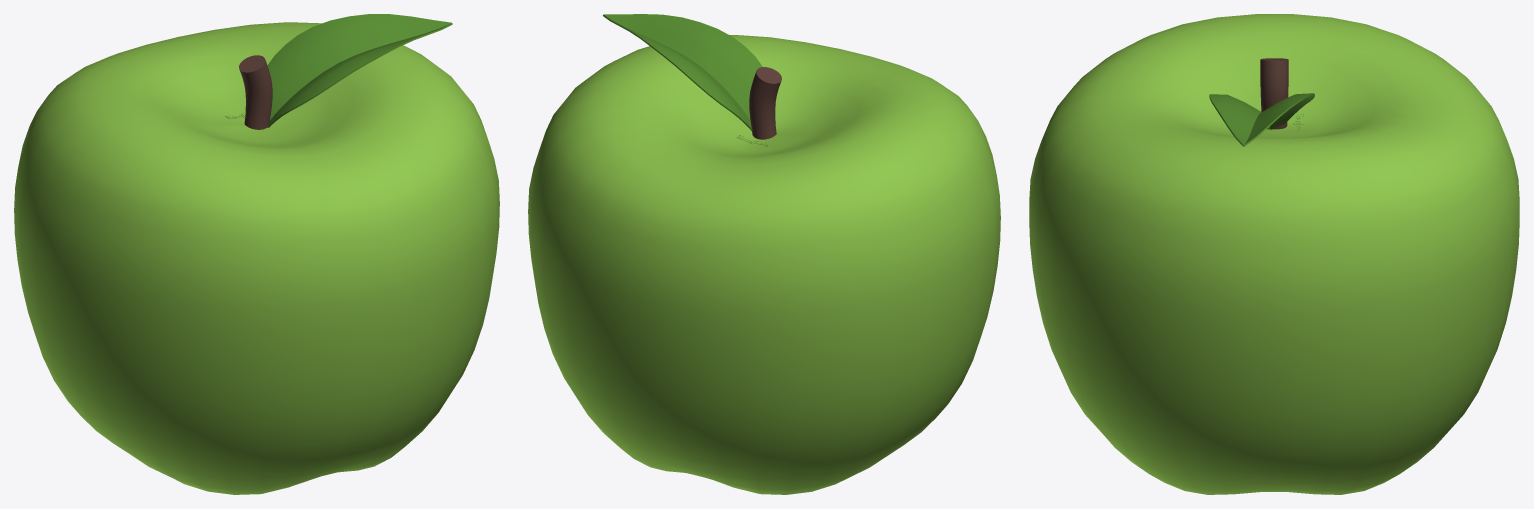
Rendered from green_apple.fbx.
The picture shows the model from 3 angles, left to right: view 1: azimuth 30°, elevation 25°; view 2: azimuth 150°, elevation 25°; view 3: azimuth 270°, elevation 25°; orthographic projection. The views are drawn at different scales.
Visible parts, largest first — view 1: Sphere.009; view 2: Sphere.009; view 3: Sphere.009.
Boxes of the visible parts, box(x1,y1,x2,y2) form: Sphere.009: box(14, 14, 499, 494); Sphere.009: box(528, 14, 1000, 494); Sphere.009: box(1029, 14, 1519, 494).
Size of the model in its own units: 212 by 192 by 210.
1 material, 1 textured.
